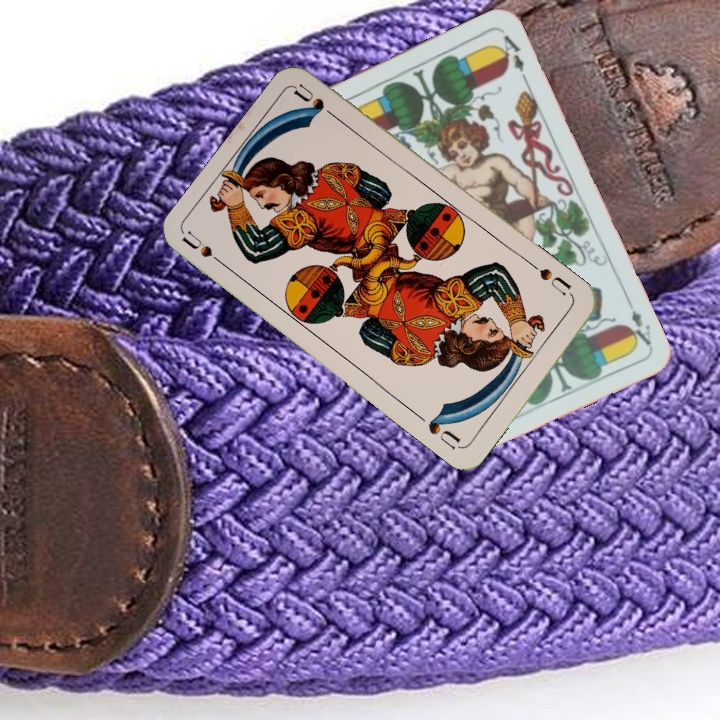EA: (622, 293, 654, 350)
SU: (179, 228, 232, 272), (526, 259, 574, 299)
